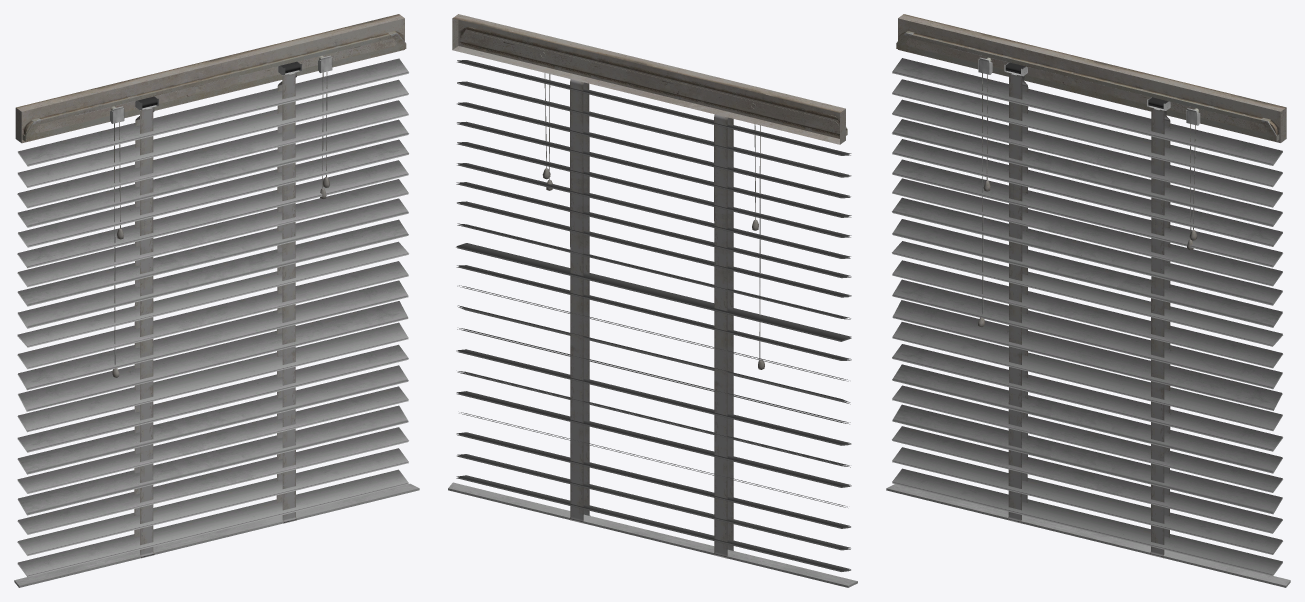
File: 203_EastOfficeBlind.fbx
3 renders of one model, left to right at view 1: azimuth 30°, elevation 25°; view 2: azimuth 150°, elevation 25°; view 3: azimuth 330°, elevation 25°, orthographic.
Visible parts, largest first — view 1: LOD_1_Group_0_Sub_1__sm30_124_STARSBlind01A_C_Mat; view 2: LOD_1_Group_0_Sub_1__sm30_124_STARSBlind01A_C_Mat; view 3: LOD_1_Group_0_Sub_1__sm30_124_STARSBlind01A_C_Mat.
Part boxes in pixels (x1=…): LOD_1_Group_0_Sub_1__sm30_124_STARSBlind01A_C_Mat: x1=14, y1=14, x2=419, y2=587; LOD_1_Group_0_Sub_1__sm30_124_STARSBlind01A_C_Mat: x1=448, y1=14, x2=857, y2=587; LOD_1_Group_0_Sub_1__sm30_124_STARSBlind01A_C_Mat: x1=886, y1=14, x2=1290, y2=587.
Size of the model in its own units: 1.35 by 1.52 by 0.077.
